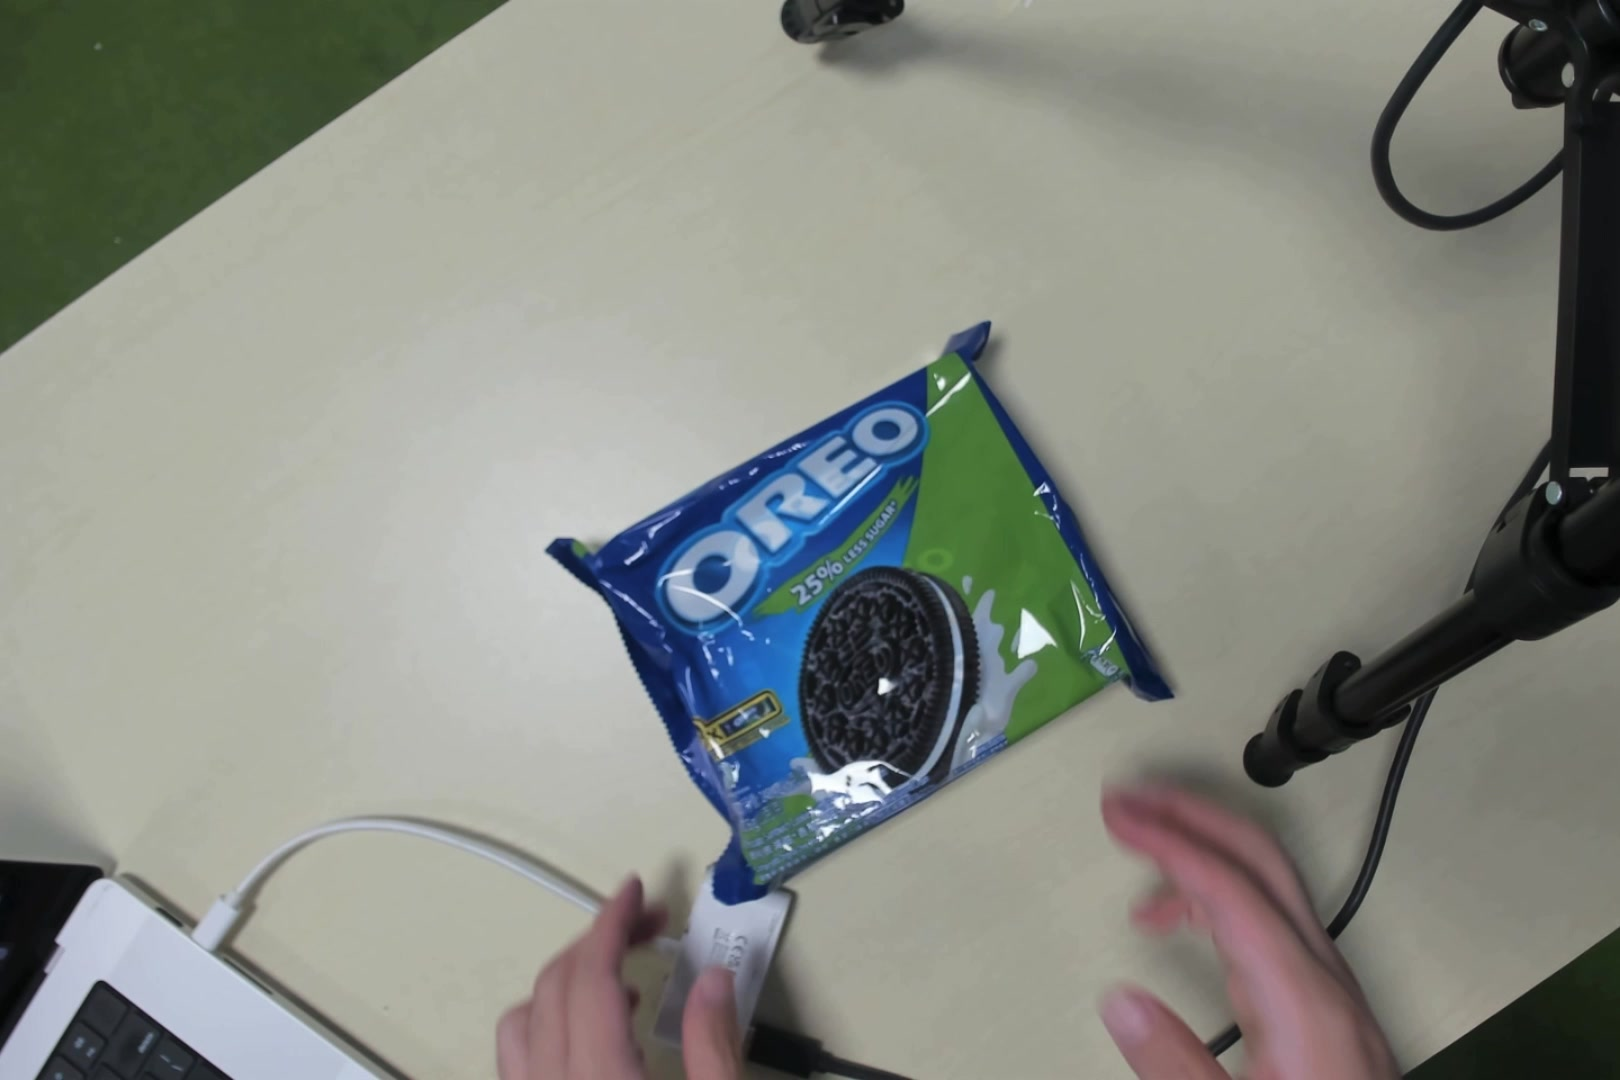SweetsChocolatesOthers_200-299g_Halal_NonHealthy: (627, 391, 1113, 835)
